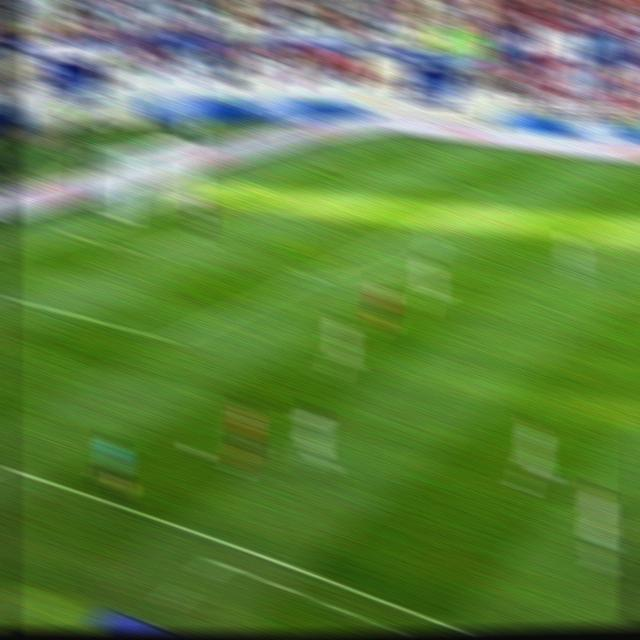bigarea_bottom_inner: (156, 323, 186, 352)
bigarea_top_inner: (476, 180, 504, 204)
bigarea_top_outter: (301, 154, 328, 174)
bottom_arc_area_intersection: (297, 263, 326, 287)
corner: (375, 132, 403, 150)
smallarea_bottom_inner: (126, 239, 153, 262)
smallarea_bottom_outter: (59, 223, 88, 247)
smallarea_top_inner: (280, 185, 311, 208)
smallarea_top_outter: (229, 175, 257, 195)
top_arc_area_intersection: (405, 214, 436, 238)
